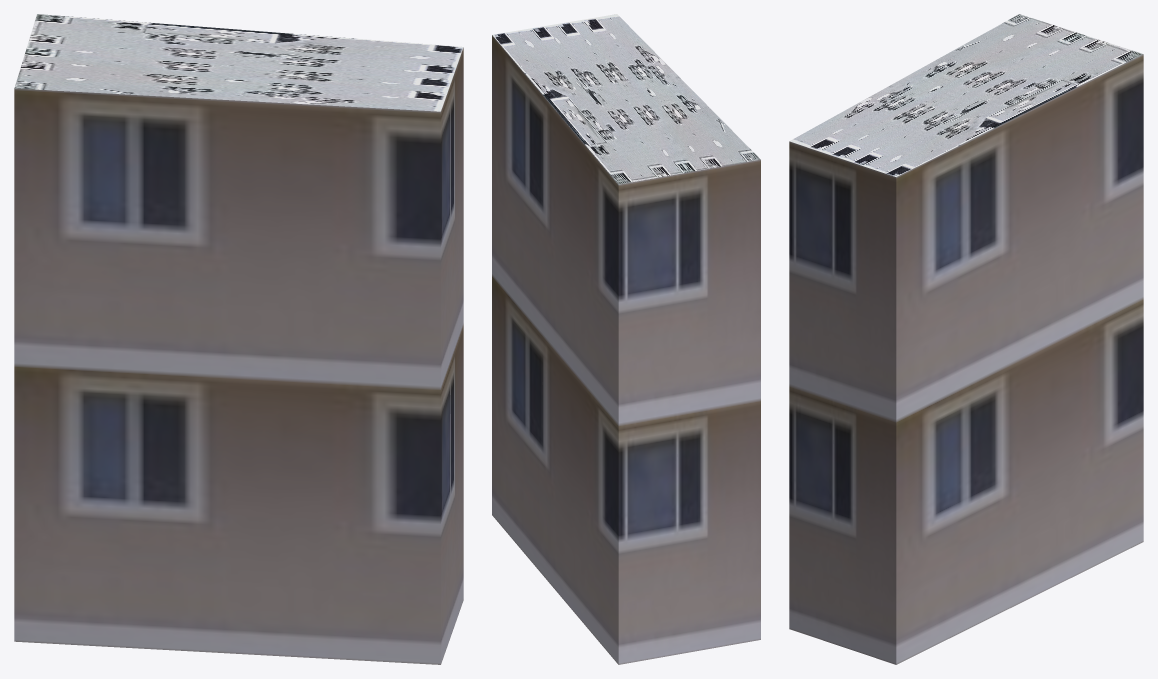
Rendered from ResTex__965.fbx.
3 renders of one model, left to right at view 1: azimuth 30°, elevation 25°; view 2: azimuth 150°, elevation 25°; view 3: azimuth 270°, elevation 25°, orthographic. The views are drawn at different scales.
Parts seen in each view (by area): view 1: CityEngineMaterial_21_m, CityEngineMaterial_m; view 2: CityEngineMaterial_21_m, CityEngineMaterial_m; view 3: CityEngineMaterial_21_m, CityEngineMaterial_m.
Part boxes in pixels (x1=…): CityEngineMaterial_21_m: x1=14, y1=47, x2=463, y2=664; CityEngineMaterial_m: x1=14, y1=14, x2=463, y2=111; CityEngineMaterial_21_m: x1=492, y1=35, x2=760, y2=664; CityEngineMaterial_m: x1=492, y1=14, x2=760, y2=184; CityEngineMaterial_21_m: x1=789, y1=54, x2=1143, y2=664; CityEngineMaterial_m: x1=789, y1=14, x2=1143, y2=176.
Size of the model in its own units: 4.31 by 6 by 3.95.
Materials: 2 (2 with a texture image).
